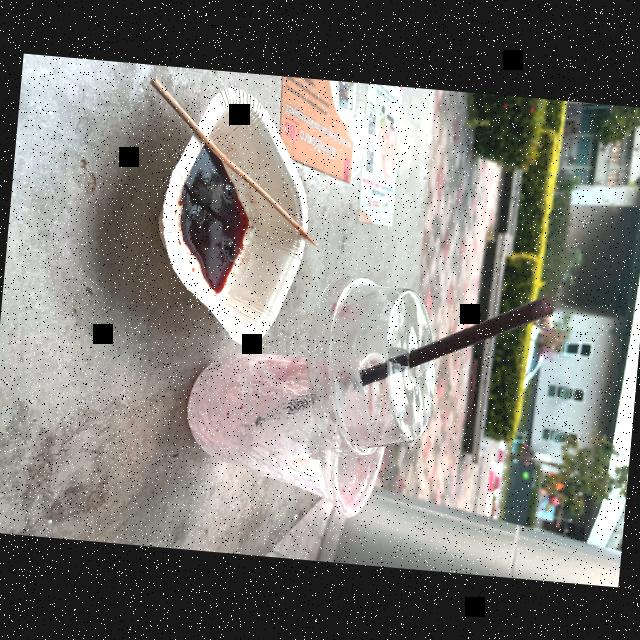cardboard_bowl: (145, 77, 325, 353), (130, 76, 333, 245)
plastic_cup: (176, 331, 397, 518)
plastic_cup_lid: (296, 260, 451, 466)
straw: (350, 282, 556, 400)
